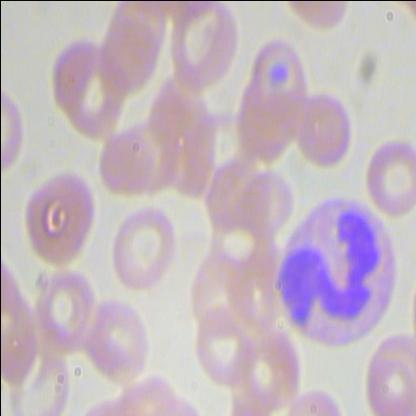RBC: (46, 36, 127, 138), (20, 168, 98, 272), (164, 1, 242, 96), (107, 204, 184, 292), (32, 264, 98, 353), (87, 296, 153, 384), (290, 88, 352, 170), (364, 136, 416, 221), (366, 333, 416, 415), (97, 129, 150, 200)
WBC: (270, 194, 395, 348)
